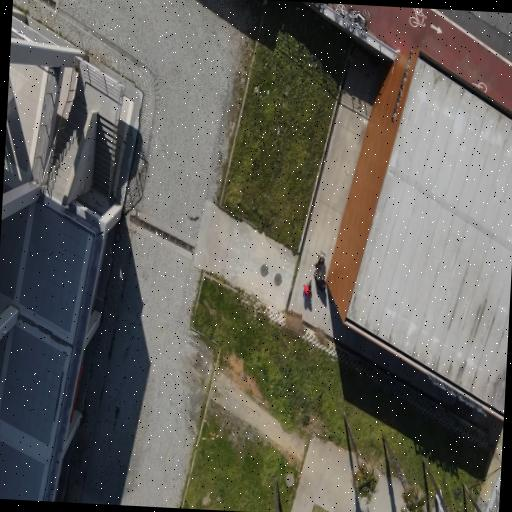person: (315, 251, 325, 268), (303, 280, 312, 298)
